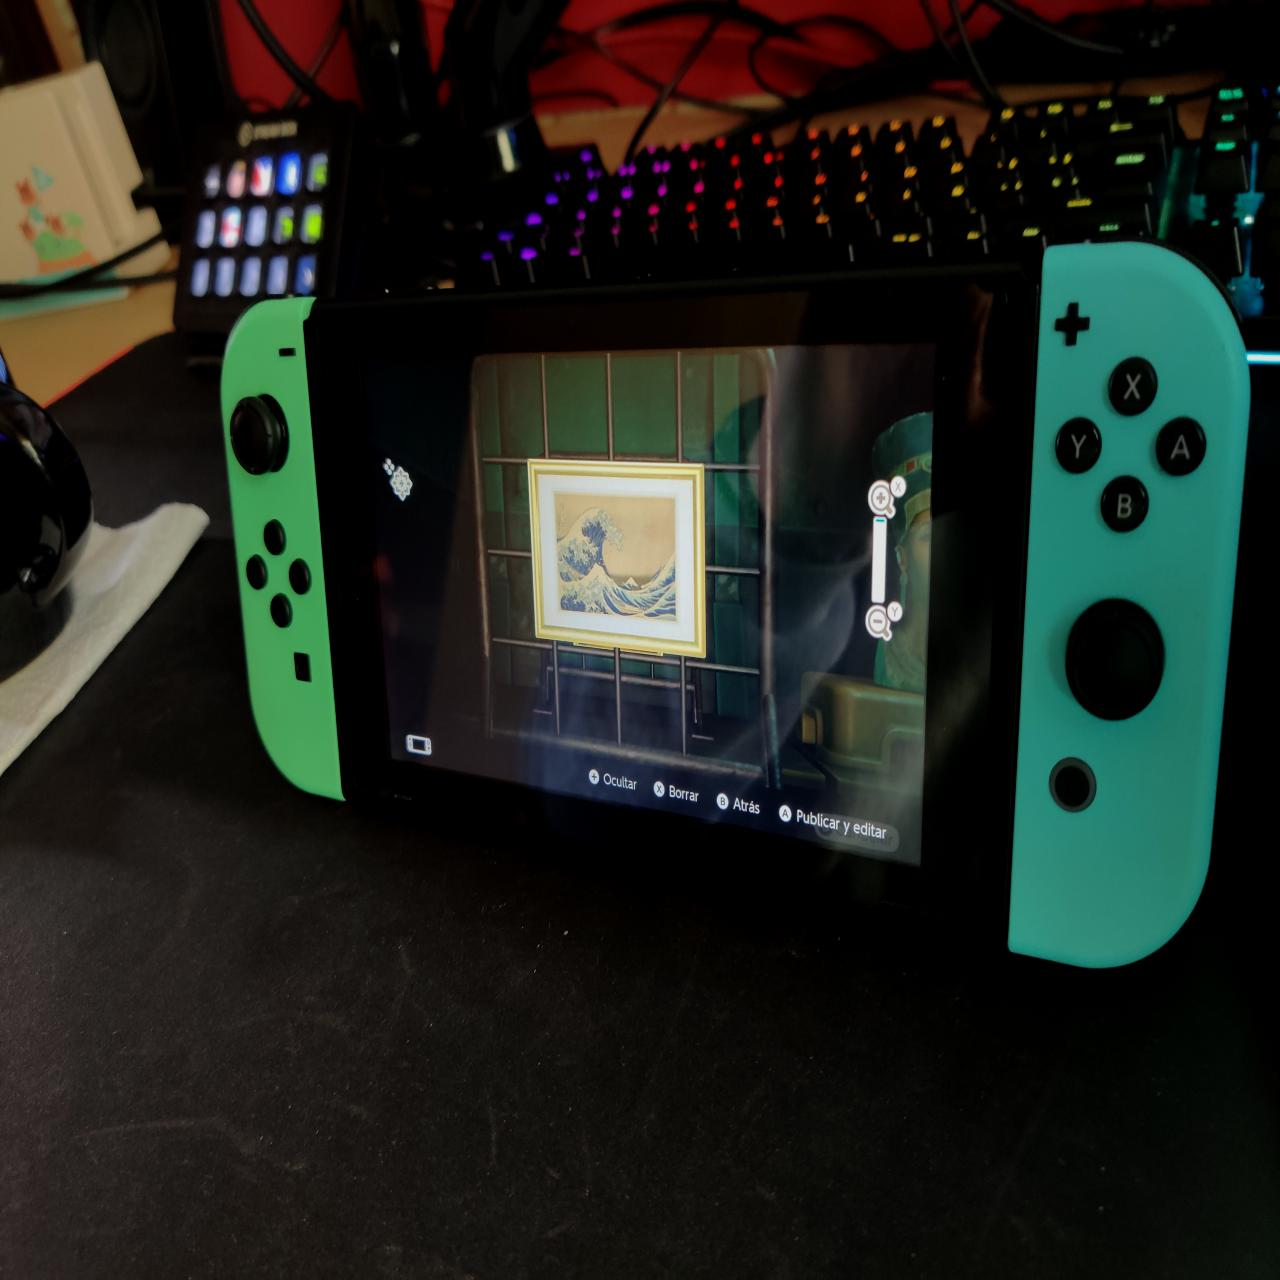Kanagawa: (553, 492, 678, 627)
